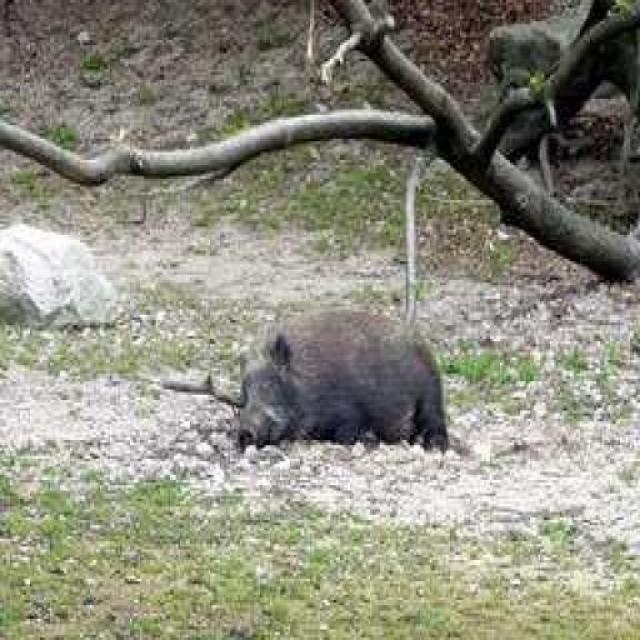pig: (168, 270, 440, 486)
